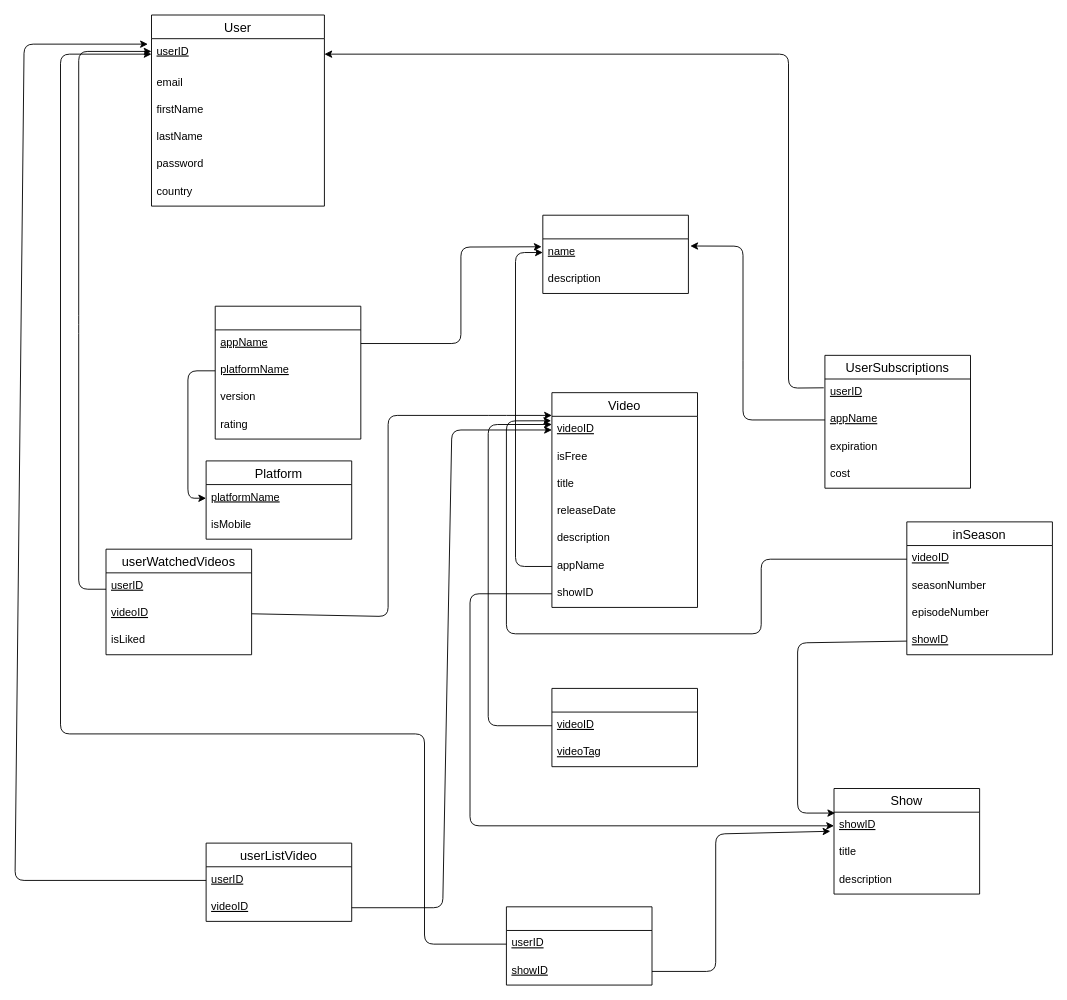
The diagram is 1067 pixels wide and 1000 high, and some of its shapes have lost their labels. The shapes that lost their labels are listed below. From the top down, each one's box as (x1, y1, x2, y2) in pixels, then its label:
(542, 214, 688, 293): App
(214, 305, 361, 439): PlatformApp
(551, 688, 698, 767): Tags
(506, 906, 652, 985): userListShow
